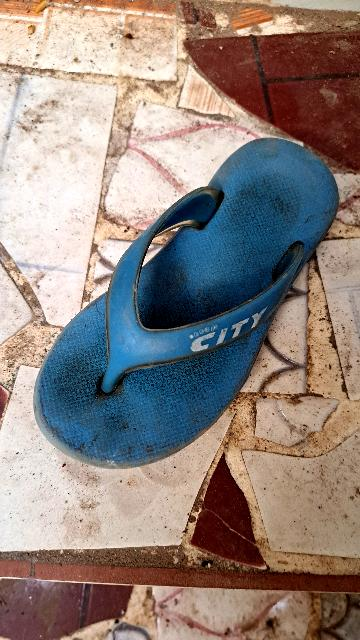sandal: (0, 96, 360, 508)
